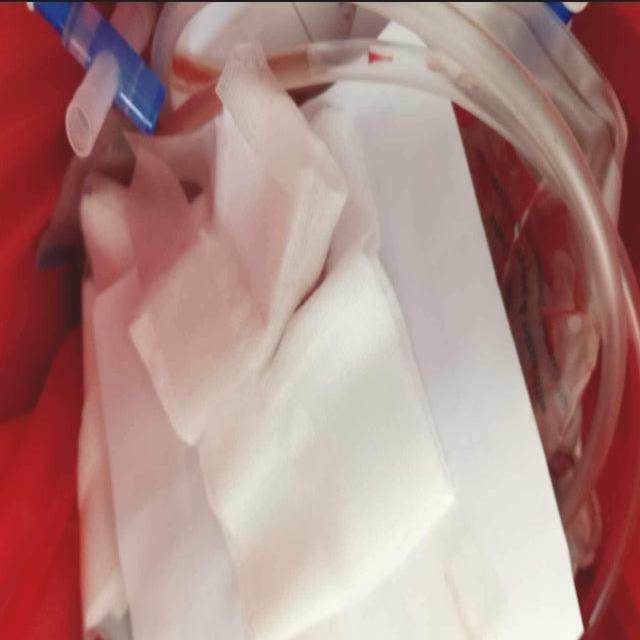General: (30, 2, 635, 637)
Sharps: (24, 1, 167, 135)
